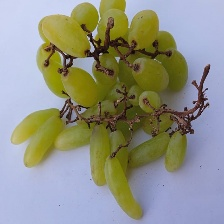grapes: (27, 35, 210, 211)
